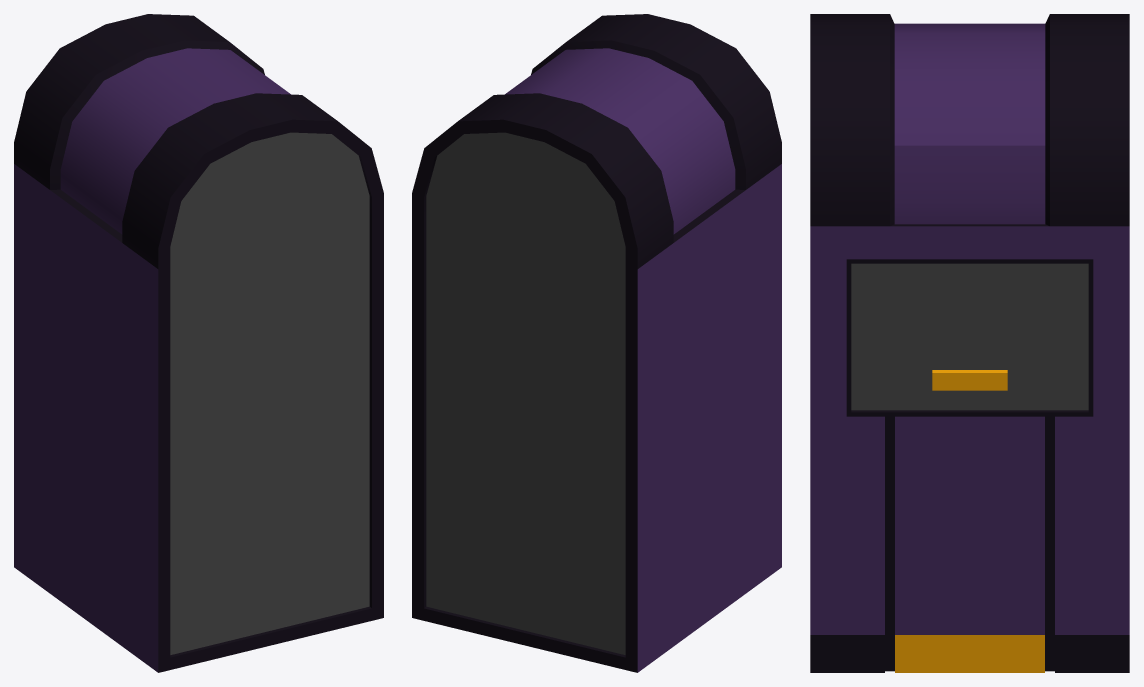
File: Mail.fbx
The picture shows the model from 3 angles, left to right: view 1: azimuth 30°, elevation 25°; view 2: azimuth 150°, elevation 25°; view 3: azimuth 270°, elevation 25°; orthographic projection. The views are drawn at different scales.
Visible parts, largest first — view 1: Mail; view 2: Mail; view 3: Mail.
Boxes of the visible parts, x1=… form: Mail: x1=14, y1=14, x2=383, y2=672; Mail: x1=412, y1=14, x2=781, y2=672; Mail: x1=810, y1=14, x2=1129, y2=672.
Bounding box in the file's own units: 118 × 258 × 130.
2 materials, 2 textured.
